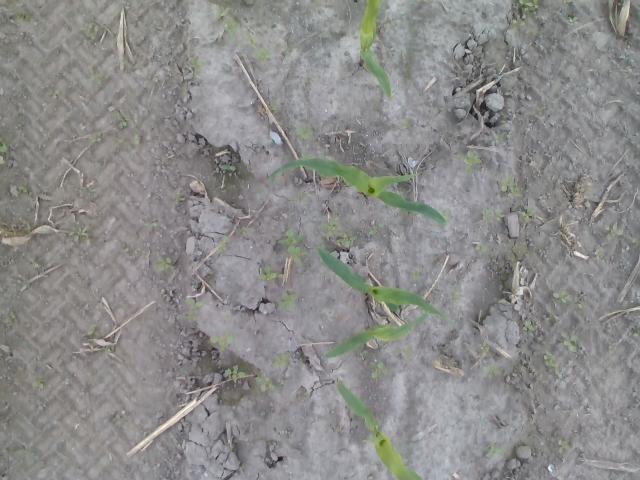Maize: (267, 152, 448, 226), (318, 246, 456, 326), (332, 375, 426, 480), (324, 312, 429, 364), (358, 0, 394, 98)
Weeds: (277, 228, 309, 264), (457, 149, 482, 176), (497, 174, 522, 197), (183, 295, 205, 321), (208, 333, 234, 354), (478, 206, 506, 224), (223, 364, 248, 384), (254, 376, 283, 392), (256, 262, 280, 281), (517, 0, 543, 17), (280, 286, 298, 310), (543, 353, 561, 376), (294, 126, 318, 142), (154, 254, 174, 272), (485, 446, 504, 464), (336, 232, 357, 248), (0, 134, 10, 166), (552, 289, 572, 305), (604, 224, 624, 240), (221, 18, 241, 33), (562, 333, 576, 353), (272, 354, 289, 370), (256, 48, 274, 63), (190, 57, 208, 72), (86, 22, 100, 41), (481, 364, 501, 377), (520, 206, 536, 222), (88, 64, 104, 80), (73, 224, 88, 240), (448, 286, 463, 302), (216, 234, 228, 254), (370, 360, 384, 377), (212, 0, 226, 17), (324, 222, 336, 241), (368, 223, 384, 236), (245, 32, 258, 48), (631, 2, 640, 24), (110, 413, 128, 424), (512, 17, 526, 31), (86, 320, 98, 336), (13, 12, 32, 22), (400, 346, 414, 359), (523, 318, 536, 332), (558, 439, 576, 449), (174, 191, 185, 207), (131, 132, 143, 146), (79, 185, 96, 194), (399, 118, 412, 129), (222, 163, 235, 174), (32, 380, 46, 390), (474, 242, 488, 252), (494, 134, 506, 145), (8, 310, 16, 325), (480, 344, 492, 354), (23, 222, 32, 235), (576, 301, 589, 310), (18, 184, 29, 194), (411, 270, 422, 280), (567, 14, 577, 25), (562, 0, 576, 7), (270, 103, 278, 114), (118, 120, 129, 128), (238, 226, 246, 236), (91, 137, 102, 144), (224, 312, 232, 321), (296, 191, 304, 200), (633, 329, 640, 336)
